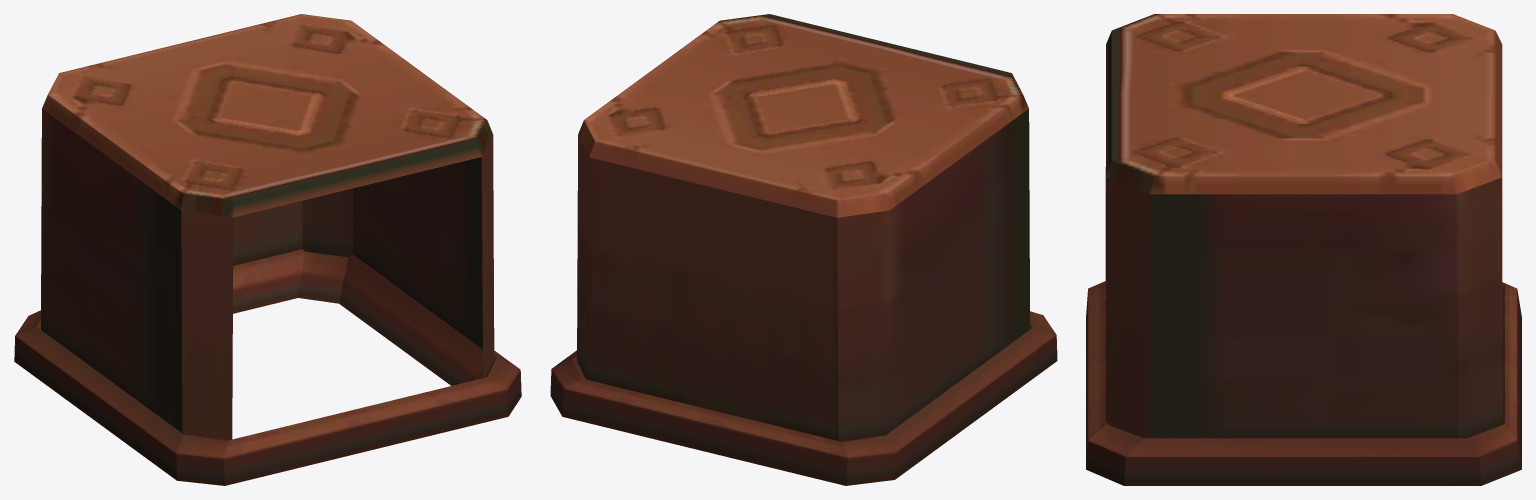
Rendered from [gimmick]door_world_cave.fbx.
3 views of the same model, side by side, from view 1: azimuth 30°, elevation 25°; view 2: azimuth 150°, elevation 25°; view 3: azimuth 270°, elevation 25° (orthographic). The views are drawn at different scales.
Parts seen in each view (by area): view 1: keydoor2, keydoor_base; view 2: keydoor2, keydoor_base; view 3: keydoor2, keydoor_base.
Boxes of the visible parts, box(x1,y1,x2,y2) form: keydoor2: box(41, 14, 494, 440); keydoor_base: box(14, 249, 521, 485); keydoor2: box(577, 14, 1030, 441); keydoor_base: box(550, 311, 1057, 485); keydoor2: box(1105, 14, 1502, 438); keydoor_base: box(1086, 281, 1521, 485).
Bounding box in the file's own units: 1 × 0.755 × 1.
